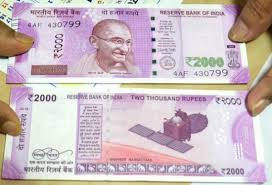twoThousand: (32, 15, 231, 71)
